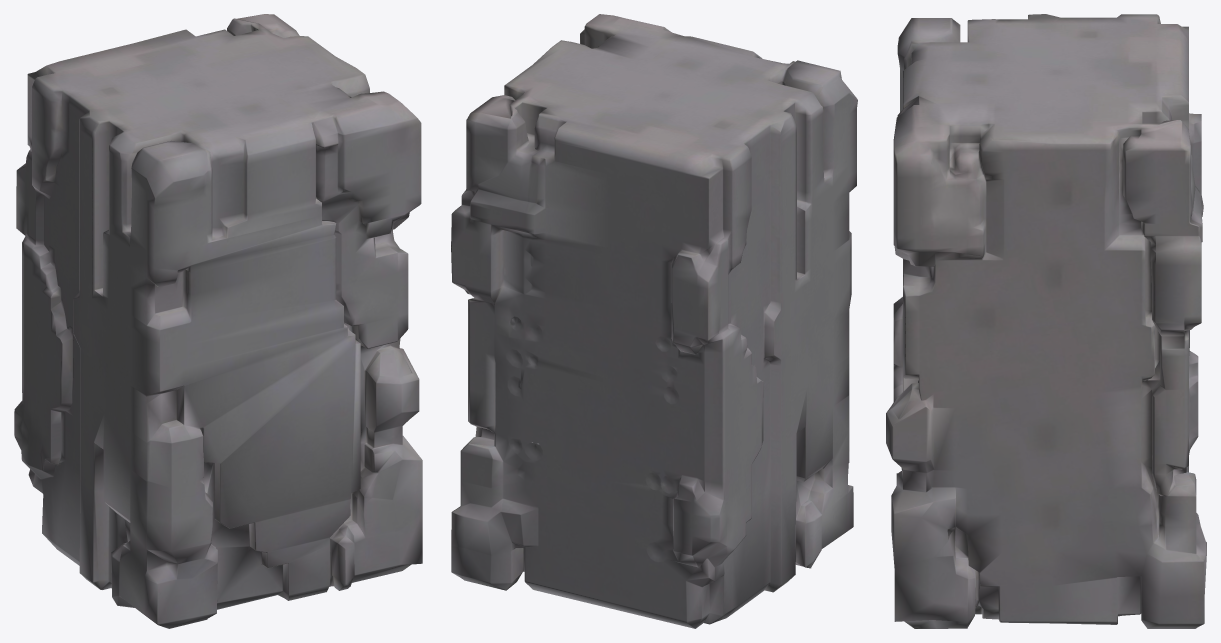
The model's file is wall_pillar.glb.
3 views of the same model, side by side, from view 1: azimuth 30°, elevation 25°; view 2: azimuth 150°, elevation 25°; view 3: azimuth 270°, elevation 25° (orthographic). The views are drawn at different scales.
Visible parts, largest first — view 1: tripo_node_cd58f72e-f394-47b0-9107-26a8e9078262; view 2: tripo_node_cd58f72e-f394-47b0-9107-26a8e9078262; view 3: tripo_node_cd58f72e-f394-47b0-9107-26a8e9078262.
Boxes of the visible parts, x1,y1,x2,y2 form: tripo_node_cd58f72e-f394-47b0-9107-26a8e9078262: (14, 14, 422, 628); tripo_node_cd58f72e-f394-47b0-9107-26a8e9078262: (451, 14, 857, 628); tripo_node_cd58f72e-f394-47b0-9107-26a8e9078262: (886, 14, 1206, 628).
Size of the model in its own units: 0.593 by 1 by 0.593.
Materials: 1 (1 with a texture image).
